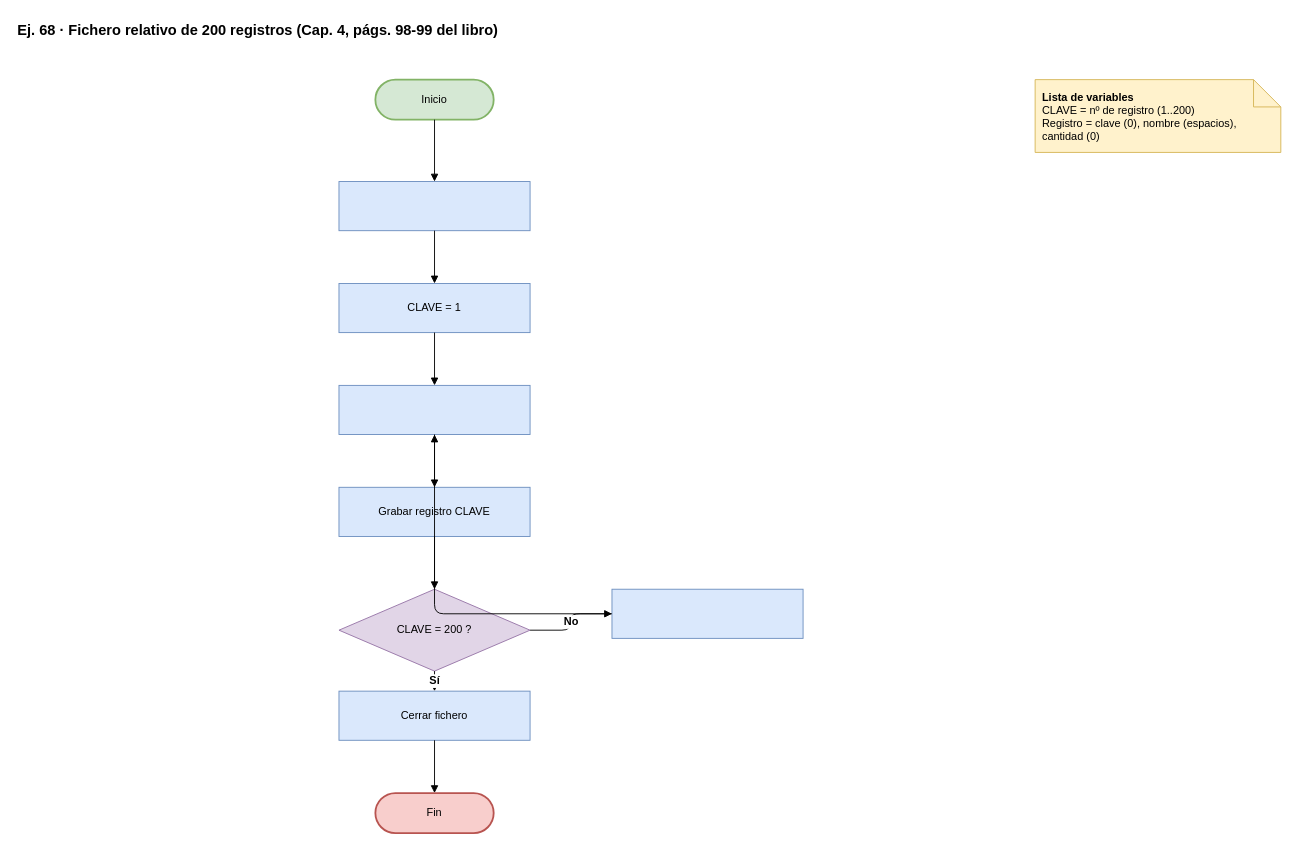
Some shapes in this 1297 by 849 pixel diagram are drawn without their labels. The shapes that lost their labels are listed below. From the top down, each one's centre as x and y in pixels, then its label:
At point (434, 206): "Abrir fichero relativo".
At point (434, 409): "Rellenar a ceros y espacios los campos".
At point (707, 613): "CLAVE = CLAVE + 1".
